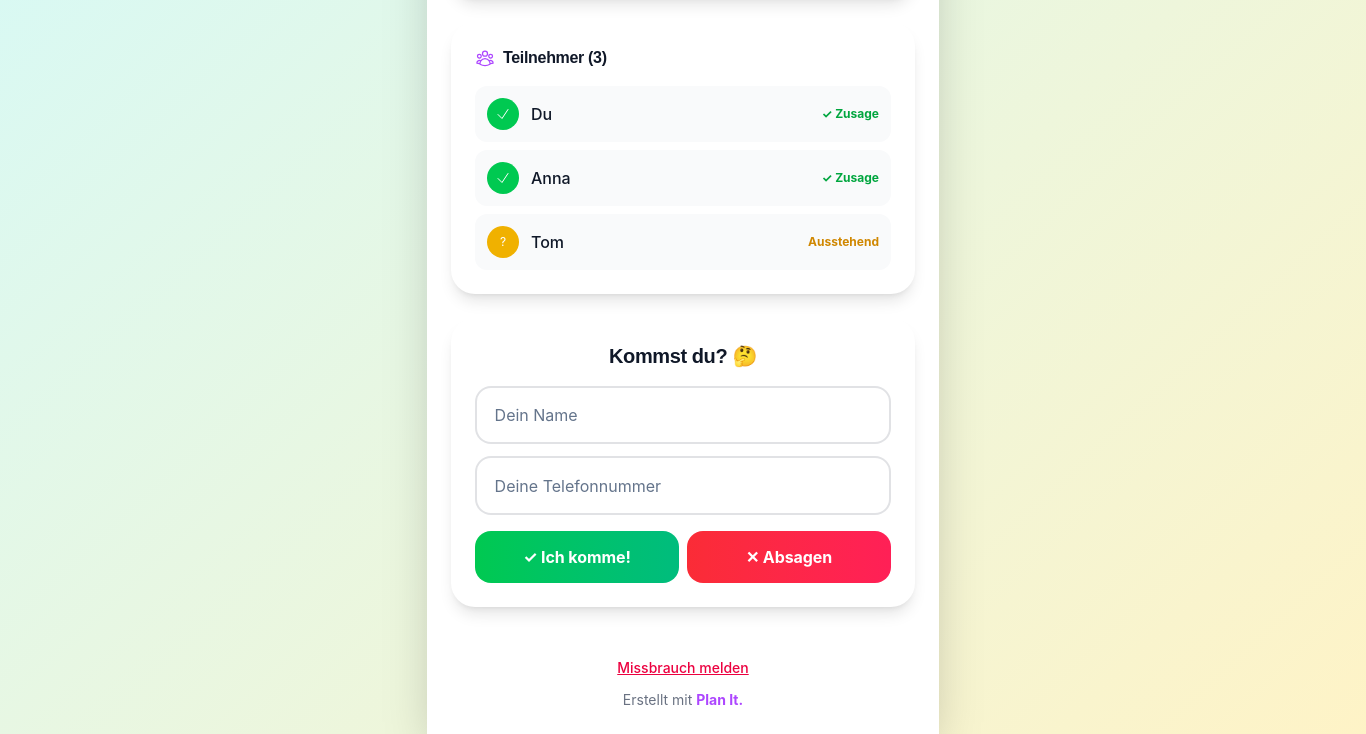
it: failure resilience › keeps RSVP form usable after one network error and succeeds on retry
(page scrolled)
In the field with placeholder "Dein Name": (683, 415) [475,386,891,444], type "Retry Jamie"
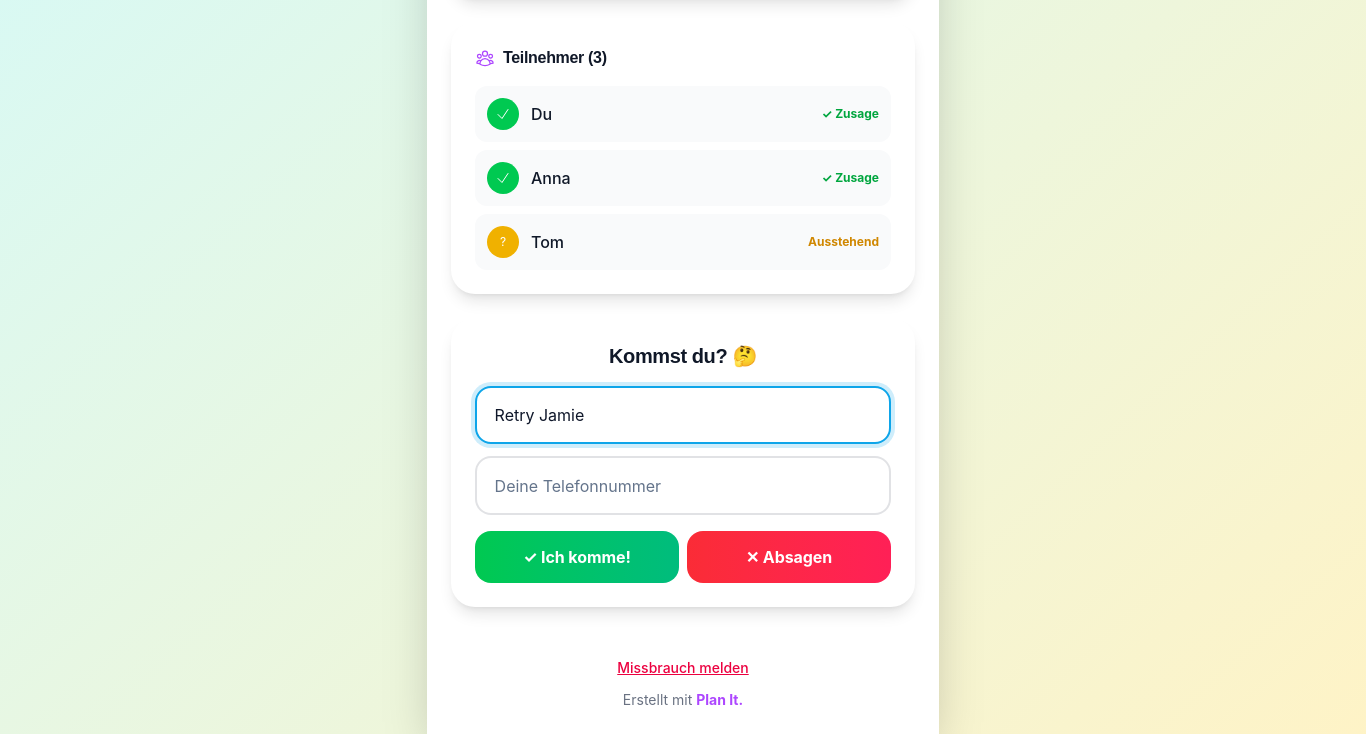
In the field with placeholder "Deine Telefonnummer": (683, 486) [475,456,891,515], type "+49123333555"
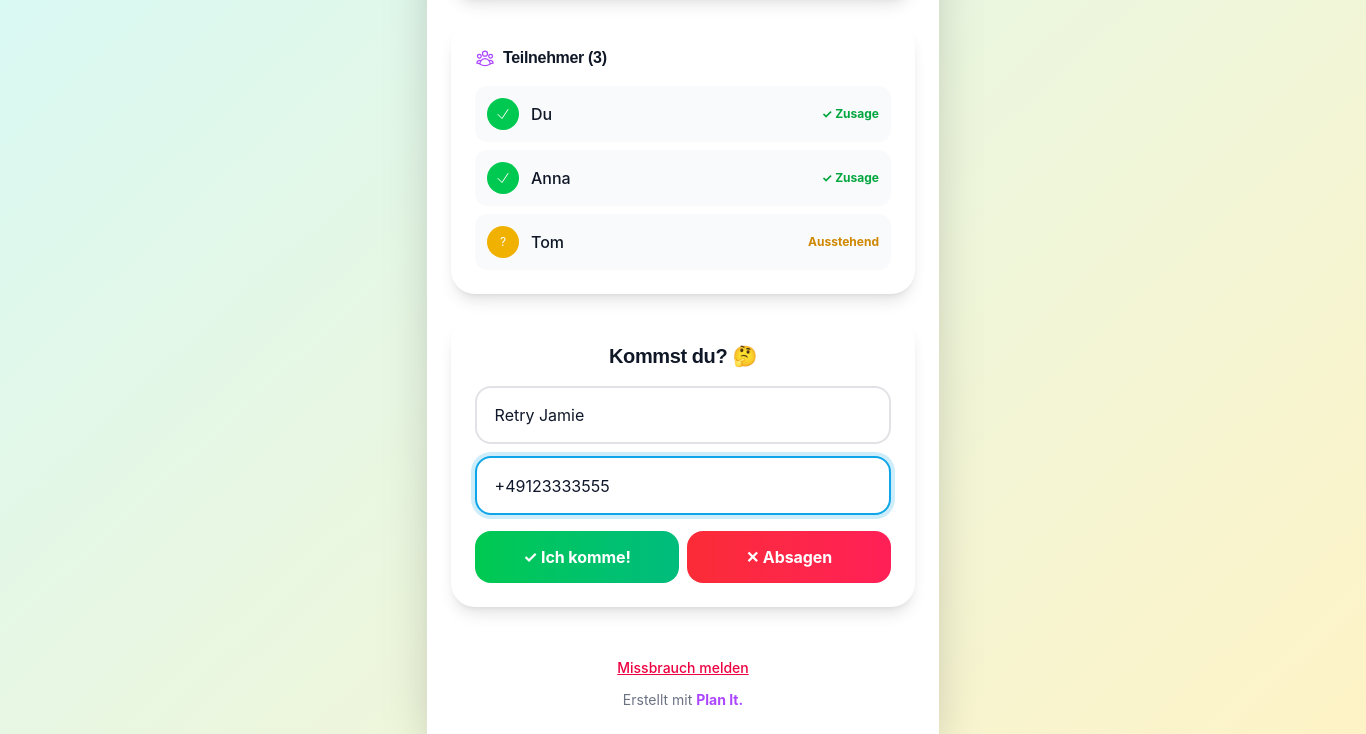
Click the button "✓ Ich komme!": (577, 557) [475,531,679,583]
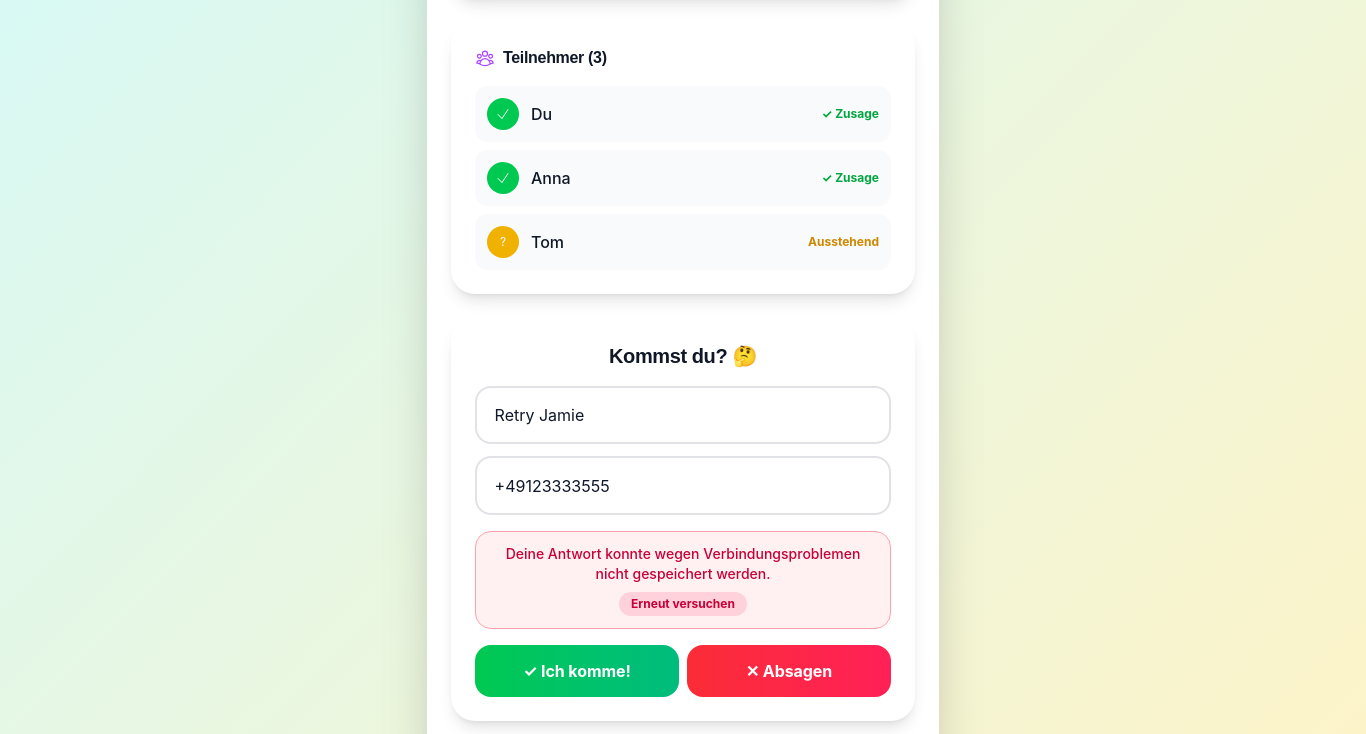
Check: the text "Verbindungsproblemen" is shown, box [506,545,860,582]
Click the button "Erneut versuchen": (683, 604) [619,592,747,616]
(page scrolled)
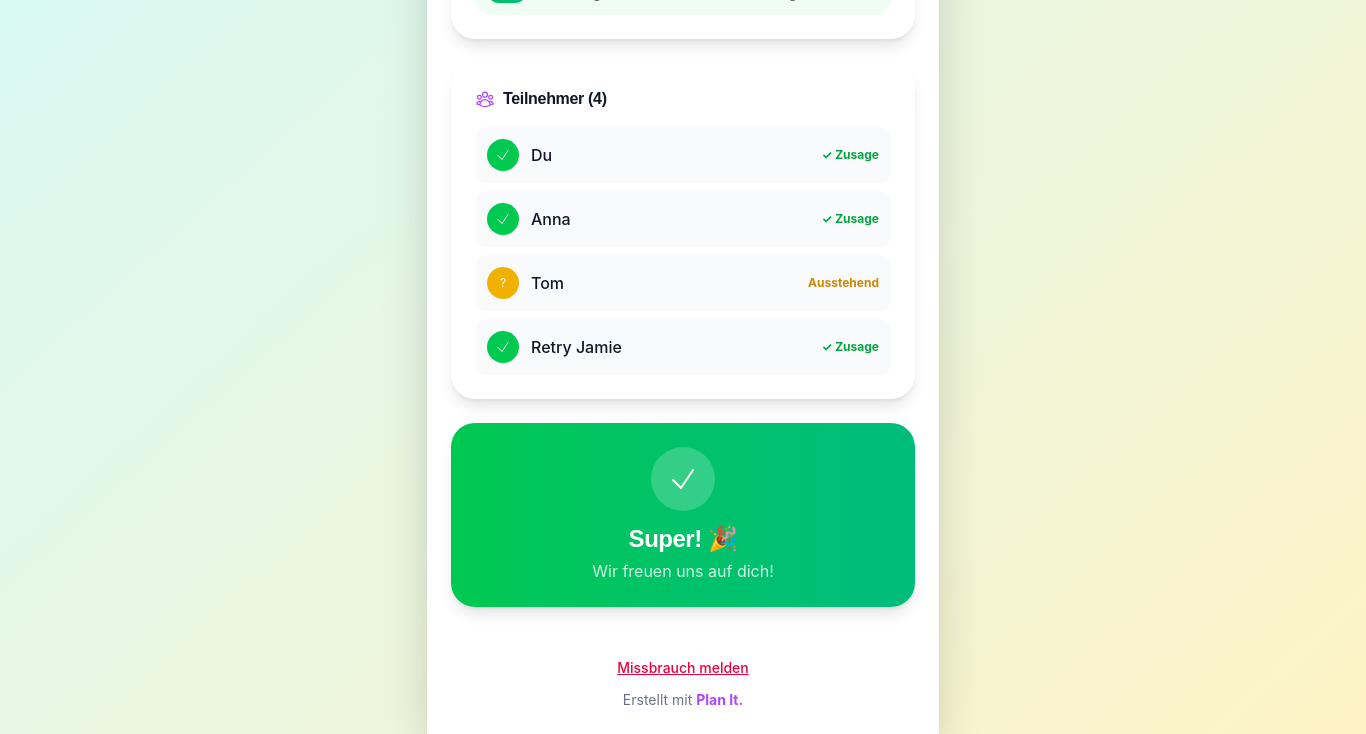
Check: the heading "Super! 🎉" is shown, box [629,525,737,552]
